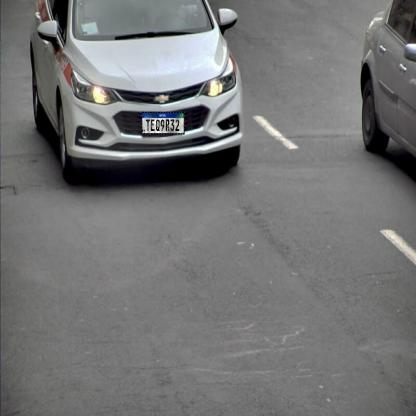PlacaM: (142, 112, 184, 134)
